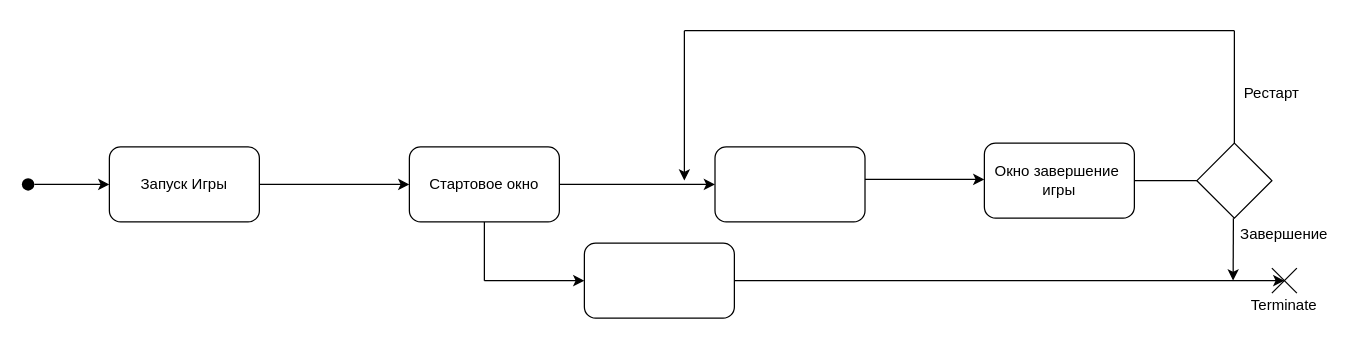
The diagram is 1349 pixels wide and 340 high, and some of its shapes have lost their labels. Each missing label, with the box of its shape:
Закрыть игру: (583, 242, 734, 318)
Игровое окно: (714, 146, 865, 222)
